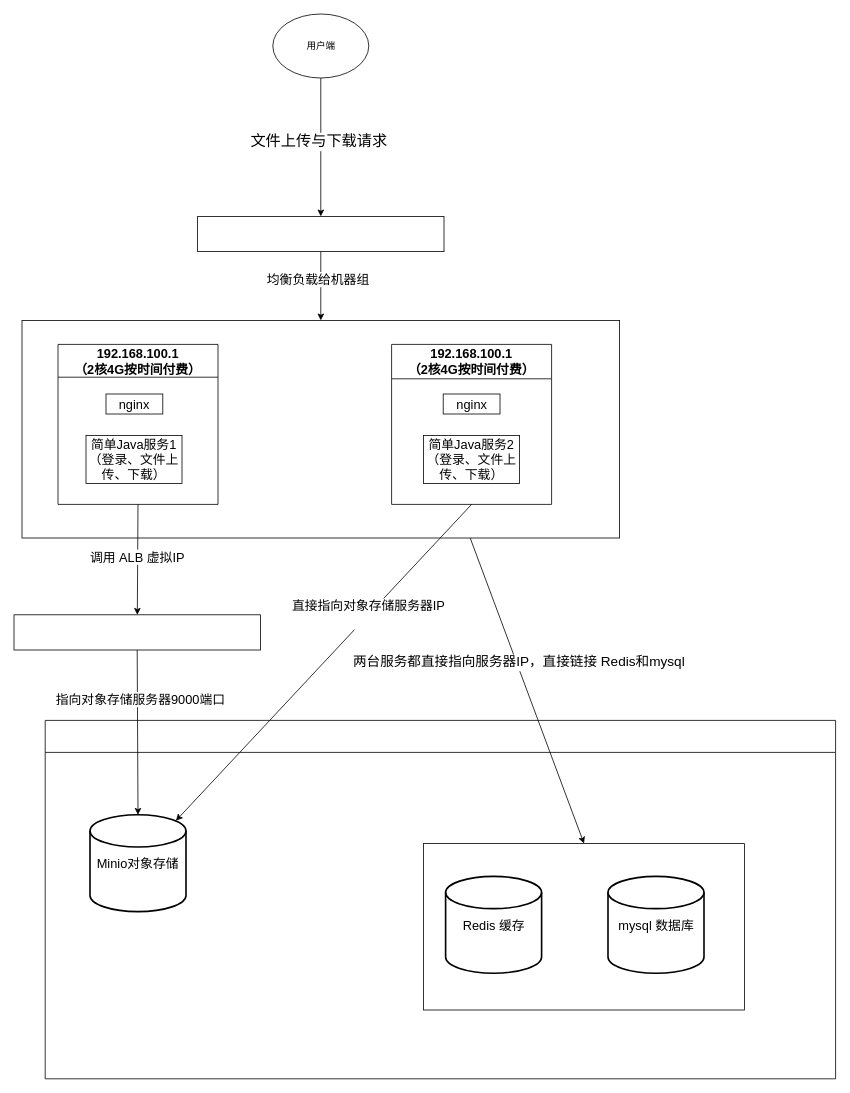
This 850x1093 diagram has some shape labels left out. Each missing label, with the box of its shape:
192.168.100.3 （4核8G按时间付费）: (44, 720, 836, 1079)
阿里云 ALB: (13, 614, 260, 650)
阿里云 ALB（外网）: (197, 216, 444, 252)
